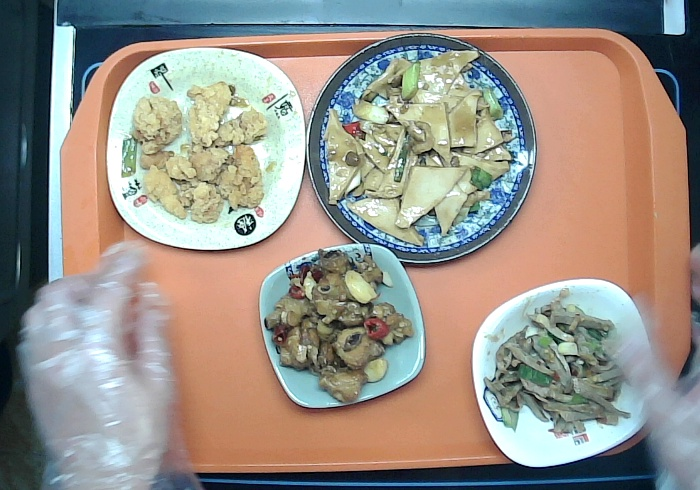NLDX-Bai_Se_Xiao_Fang_Die: (465, 274, 657, 471)
NLDX-Fu_Zi_Fang_Die: (100, 41, 306, 260)
NLDX-Qing_Hua_Xiao_Fang_Die: (250, 236, 427, 415)
NLDX-Qing_Hua_Yuan_Die: (304, 28, 539, 274)
